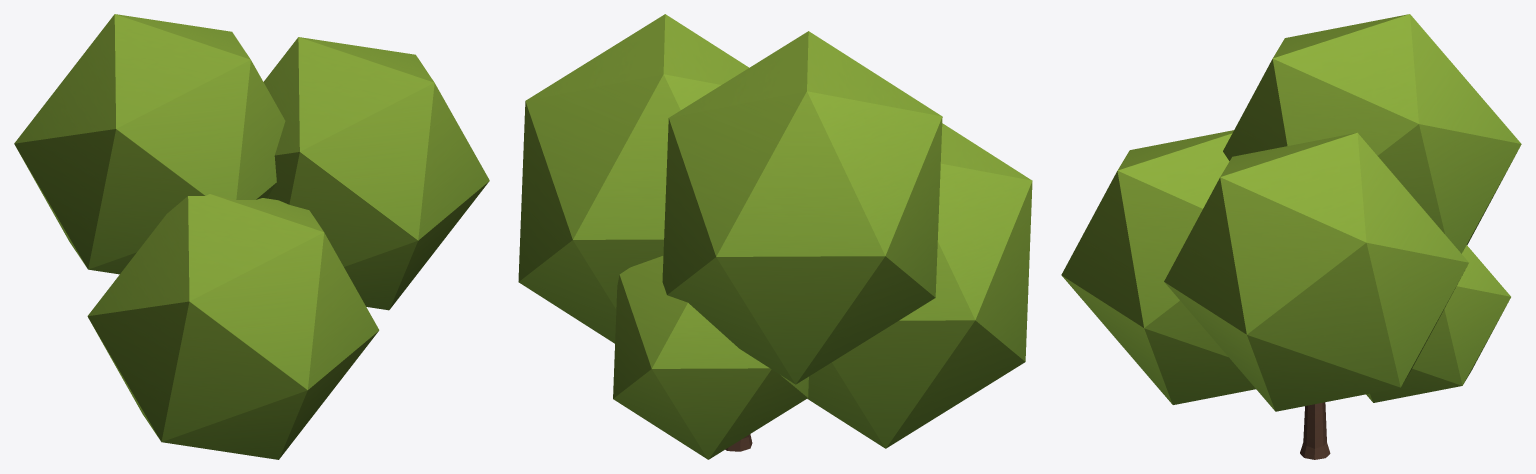
The model's file is arbusto10.fbx.
The picture shows the model from 3 angles, left to right: view 1: azimuth 30°, elevation 25°; view 2: azimuth 150°, elevation 25°; view 3: azimuth 270°, elevation 25°; orthographic projection. The views are drawn at different scales.
Parts seen in each view (by area): view 1: arbusto14; view 2: arbusto14; view 3: arbusto14.
Boxes of the visible parts, box(x1,y1,x2,y2) form: arbusto14: box(14, 14, 489, 459); arbusto14: box(518, 14, 1032, 459); arbusto14: box(1061, 14, 1521, 459).
Bounding box in the file's own units: 257 × 247 × 268.
